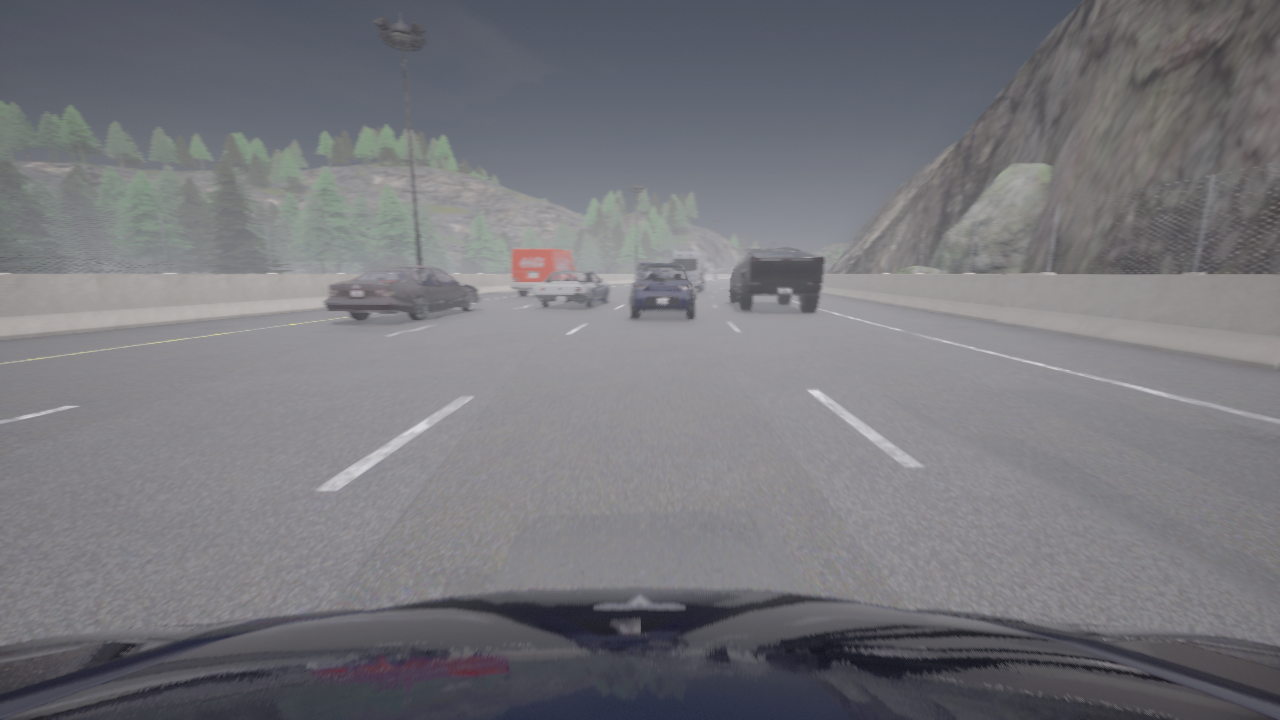cyclist: (0, 588, 1279, 719), (324, 266, 481, 320), (729, 248, 824, 311), (630, 264, 695, 319), (511, 248, 582, 296), (534, 271, 609, 307), (671, 251, 708, 292), (636, 263, 663, 276)
